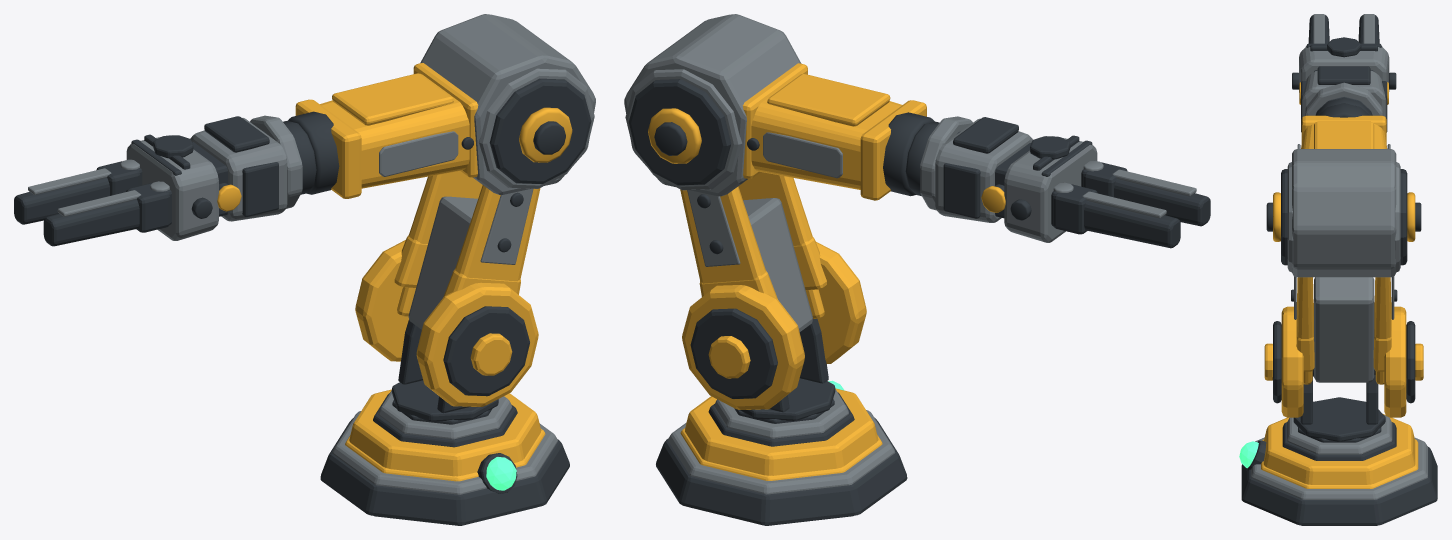
Rendered from Braco_Robotico.fbx.
3 renders of one model, left to right at view 1: azimuth 30°, elevation 25°; view 2: azimuth 150°, elevation 25°; view 3: azimuth 270°, elevation 25°, orthographic. The views are drawn at different scales.
Visible parts, largest first — view 1: Braco_Superior_Visual, Antebraco_Visual, Base_Giratoria_Visual, Base_Estatica, Wrist_Visual, Palm, Garra_Direita, Garra_Esquerda, IndicatorLight; view 2: Braco_Superior_Visual, Antebraco_Visual, Base_Giratoria_Visual, Base_Estatica, Wrist_Visual, Palm, Garra_Esquerda, Garra_Direita; view 3: Braco_Superior_Visual, Base_Giratoria_Visual, Base_Estatica, Wrist_Visual, Antebraco_Visual, Palm, IndicatorLight, Garra_Esquerda, Garra_Direita.
Boxes of the visible parts, box(x1,y1,x2,y2) form: Braco_Superior_Visual: box(355, 14, 595, 406); Antebraco_Visual: box(288, 63, 478, 198); Base_Giratoria_Visual: box(345, 320, 545, 481); Base_Estatica: box(320, 411, 569, 525); Wrist_Visual: box(190, 115, 316, 221); Palm: box(126, 134, 218, 240); Garra_Direita: box(43, 181, 169, 246); Garra_Esquerda: box(14, 159, 140, 224); IndicatorLight: box(477, 453, 517, 493); Braco_Superior_Visual: box(624, 14, 866, 409); Antebraco_Visual: box(742, 63, 934, 200); Base_Giratoria_Visual: box(680, 319, 882, 480); Base_Estatica: box(656, 410, 907, 525); Wrist_Visual: box(905, 116, 1032, 222); Palm: box(1004, 135, 1097, 242); Garra_Esquerda: box(1053, 182, 1180, 248); Garra_Direita: box(1083, 160, 1210, 226); Braco_Superior_Visual: box(1264, 149, 1423, 417); Base_Giratoria_Visual: box(1261, 375, 1418, 488); Base_Estatica: box(1241, 437, 1437, 525); Wrist_Visual: box(1299, 66, 1388, 132); Antebraco_Visual: box(1297, 103, 1390, 148); Palm: box(1292, 37, 1396, 92); IndicatorLight: box(1239, 440, 1266, 470); Garra_Esquerda: box(1358, 14, 1382, 46); Garra_Direita: box(1306, 14, 1329, 46).
Size of the model in its own units: 705 by 534 by 271.
